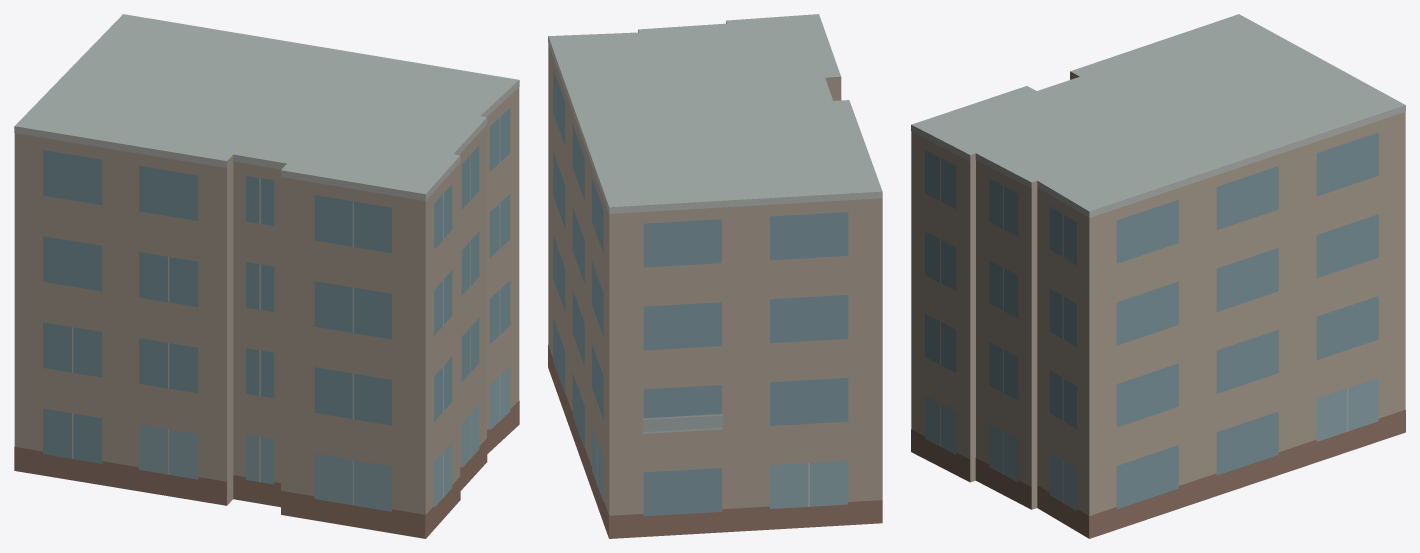
File: survey-upis-32754515.glb
3 renders of one model, left to right at view 1: azimuth 30°, elevation 25°; view 2: azimuth 150°, elevation 25°; view 3: azimuth 270°, elevation 25°, orthographic. The views are drawn at different scales.
Visible parts, largest first — view 1: survey-upis-32754515.tmp; view 2: survey-upis-32754515.tmp; view 3: survey-upis-32754515.tmp.
Part boxes in pixels (box(x1,y1,x2,y2)): survey-upis-32754515.tmp: box(14, 14, 519, 538); survey-upis-32754515.tmp: box(548, 14, 882, 538); survey-upis-32754515.tmp: box(911, 14, 1405, 538).
Bounding box in the file's own units: 15.8 × 12.2 × 16.72.
